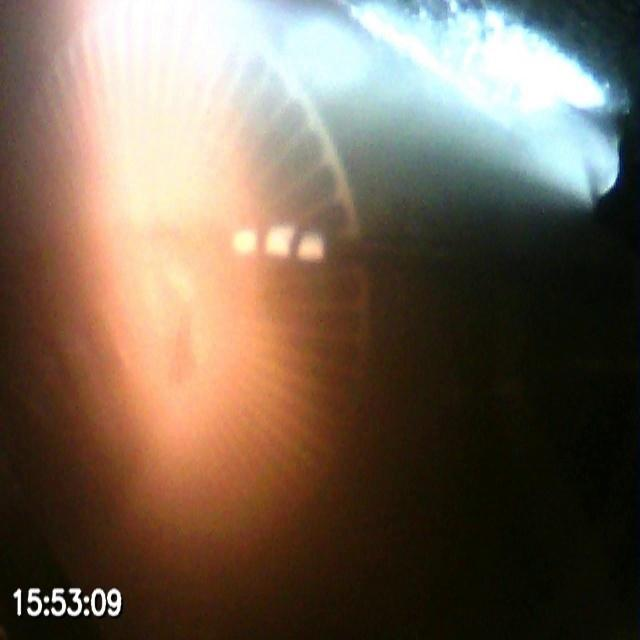white-dots: (232, 224, 328, 264)
